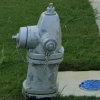a fire hydrant: (18, 7, 67, 96)
